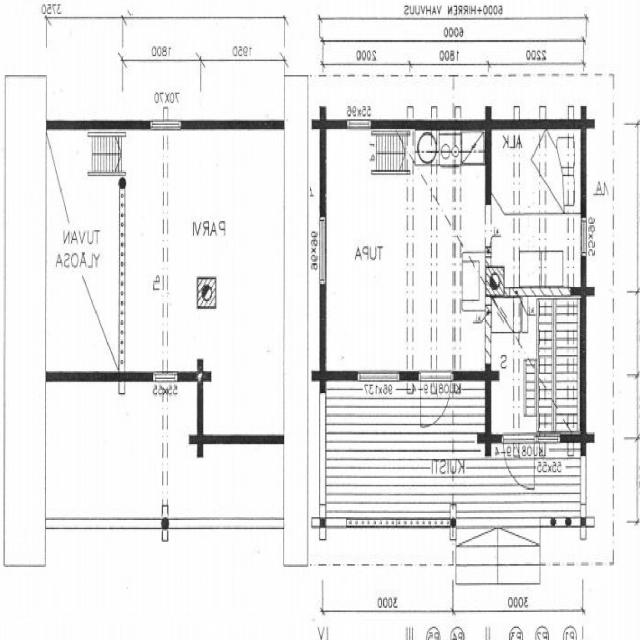door: (421, 371, 452, 430), (504, 433, 534, 492)
